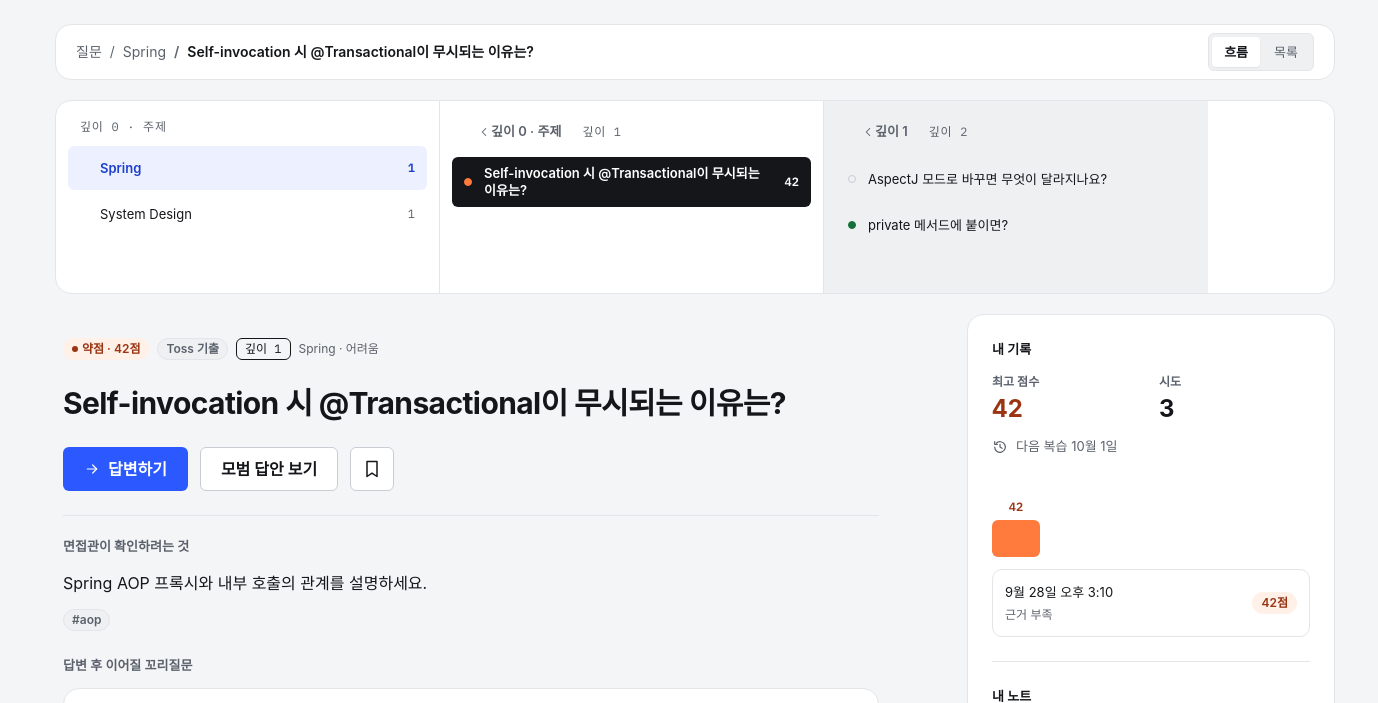
it: QuestionWorkspacePage › jumps to reference answers from the header action
What coordinates should you click on to do the following:
click the button "모범 답안 보기"
I would click on:
 (269, 469)
Its box is [200,447,338,491].
(page scrolled)
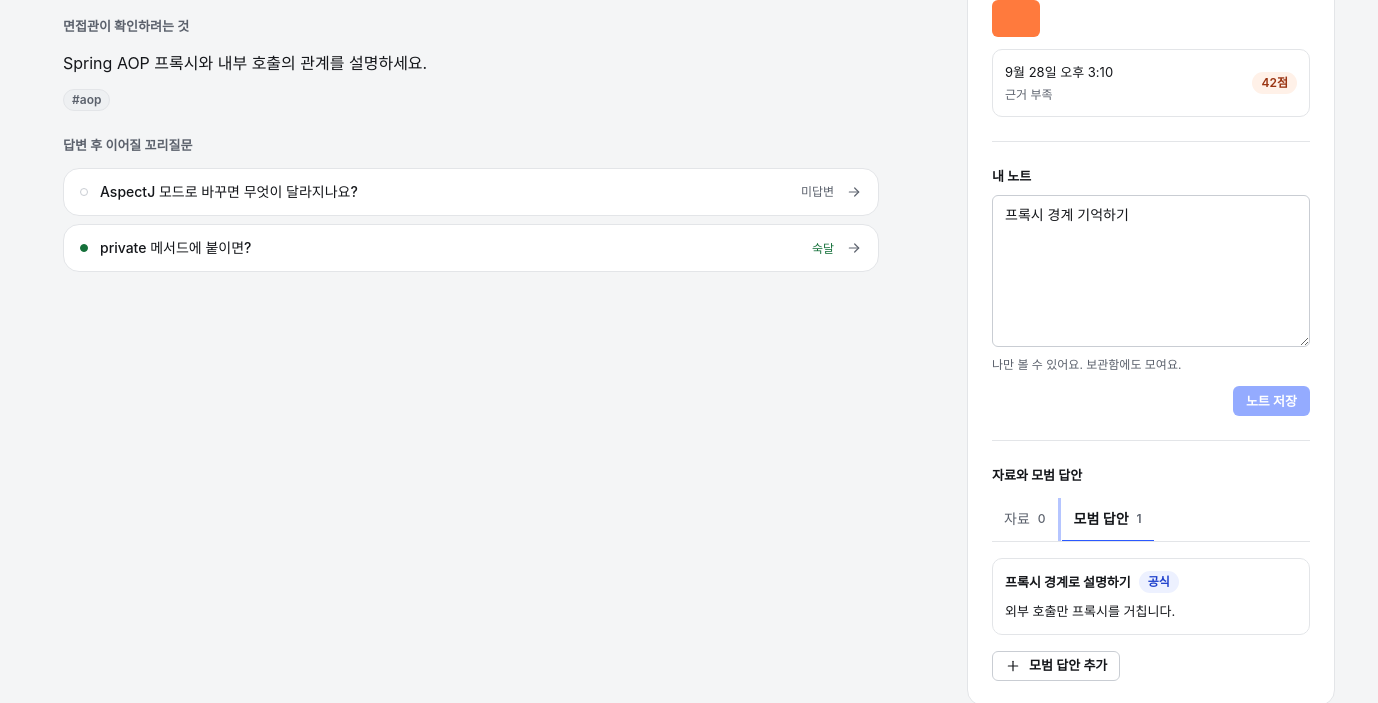
Expected: the text "외부 호출만 프록시를 거칩니다." is shown, [1005,603,1175,619]
